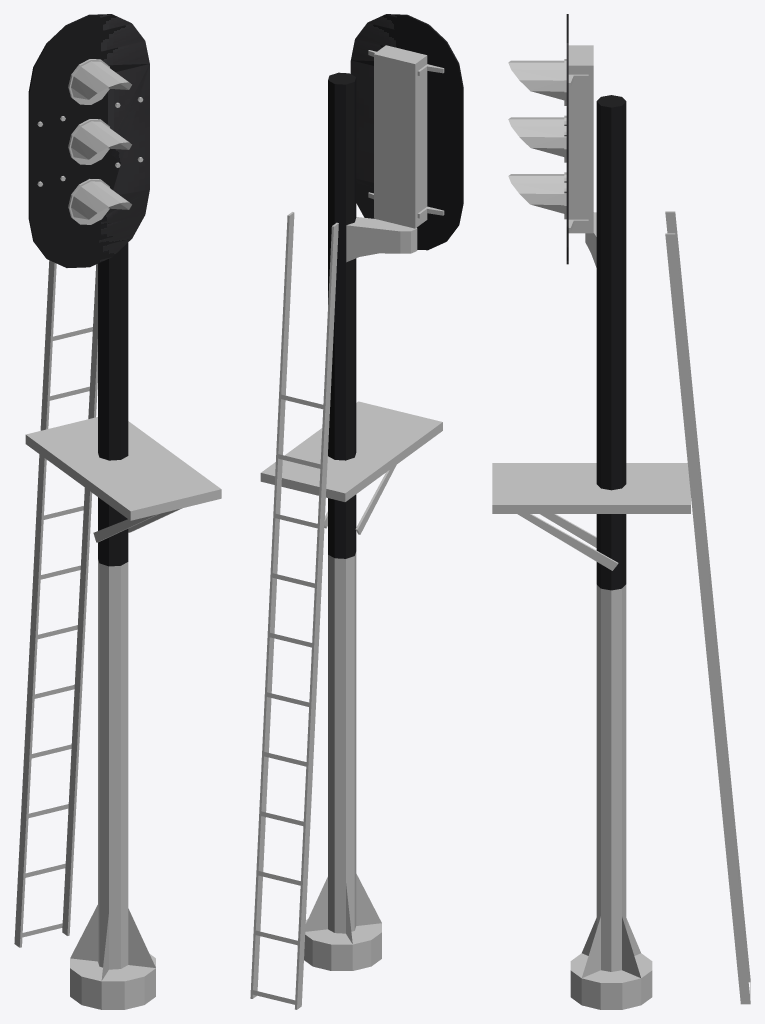
File: 3_main-1.obj
The picture shows the model from 3 angles, left to right: view 1: azimuth 30°, elevation 25°; view 2: azimuth 150°, elevation 25°; view 3: azimuth 270°, elevation 25°; orthographic projection. The views are drawn at different scales.
Visible parts, largest first — view 1: ID75, ID278, ID427, ID151, ID160, ID286, ID349, ID258, ID309, ID317, ID442, ID28.001 (+5 smaller); view 2: ID75, ID278, ID413, ID151, ID427, ID160, ID286, ID349, ID309, ID258, ID317, ID86 (+4 smaller); view 3: ID278, ID160, ID427, ID413, ID286, ID349, ID258, ID309, ID317, ID442, ID151, ID28.002 (+4 smaller).
Part boxes in pixels (bbox=[...]): ID75: bbox=[28, 14, 149, 267]; ID278: bbox=[98, 242, 128, 566]; ID427: bbox=[30, 418, 217, 509]; ID151: bbox=[14, 260, 56, 947]; ID160: bbox=[62, 264, 97, 935]; ID286: bbox=[70, 953, 155, 1009]; ID349: bbox=[98, 848, 128, 969]; ID258: bbox=[98, 752, 128, 855]; ID309: bbox=[98, 559, 128, 662]; ID317: bbox=[98, 656, 128, 758]; ID442: bbox=[25, 417, 221, 520]; ID28.001: bbox=[71, 121, 131, 159]; ID75: bbox=[350, 14, 463, 250]; ID278: bbox=[328, 72, 356, 558]; ID413: bbox=[374, 45, 427, 228]; ID151: bbox=[295, 222, 338, 1009]; ID427: bbox=[264, 403, 438, 491]; ID160: bbox=[250, 212, 294, 998]; ID286: bbox=[304, 919, 381, 970]; ID349: bbox=[328, 820, 356, 933]; ID309: bbox=[328, 552, 356, 648]; ID258: bbox=[328, 731, 356, 827]; ID317: bbox=[328, 641, 356, 737]; ID86: bbox=[346, 217, 417, 262]; ID278: bbox=[596, 95, 626, 590]; ID160: bbox=[665, 233, 750, 1004]; ID427: bbox=[494, 464, 688, 503]; ID413: bbox=[568, 45, 593, 233]; ID286: bbox=[570, 953, 652, 1009]; ID349: bbox=[596, 858, 626, 971]; ID258: bbox=[596, 767, 626, 863]; ID309: bbox=[596, 584, 626, 681]; ID317: bbox=[596, 676, 626, 772]; ID442: bbox=[492, 463, 690, 513]; ID151: bbox=[665, 211, 750, 982]; ID28.002: bbox=[508, 60, 564, 100].
Size of the model in its own units: 0.8523 by 5.37 by 1.32.
2 materials, 1 textured.
